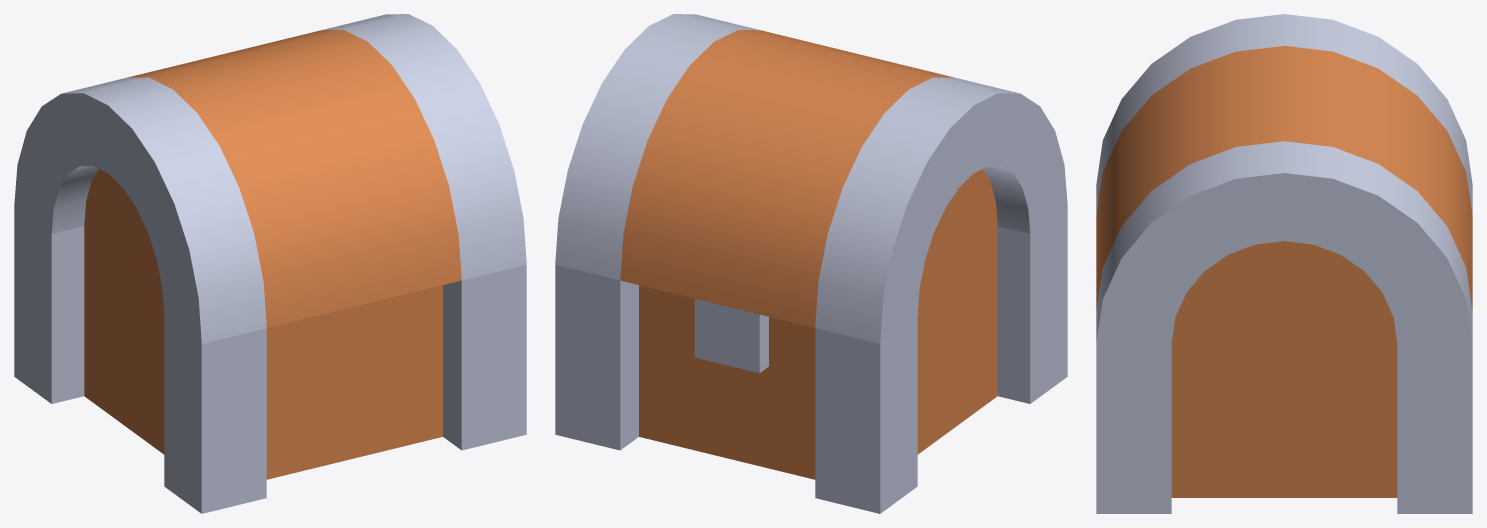
Rendered from chest.glb.
3 renders of one model, left to right at view 1: azimuth 30°, elevation 25°; view 2: azimuth 150°, elevation 25°; view 3: azimuth 270°, elevation 25°, orthographic.
Parts seen in each view (by area): view 1: lid, chest; view 2: lid, chest; view 3: lid, chest.
Part boxes in pixels (x1=…): lid: x1=14, y1=14, x2=526, y2=343; chest: x1=14, y1=207, x2=526, y2=513; lid: x1=555, y1=14, x2=1067, y2=343; chest: x1=555, y1=207, x2=1067, y2=513; lid: x1=1096, y1=14, x2=1472, y2=343; chest: x1=1096, y1=327, x2=1472, y2=513.
Bounding box in the file's own units: 0.5 × 0.5 × 0.5.
